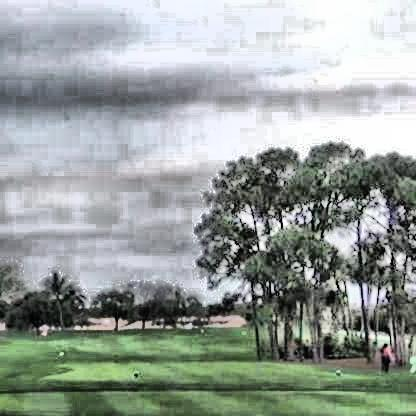golfball: (100, 316, 110, 325)
